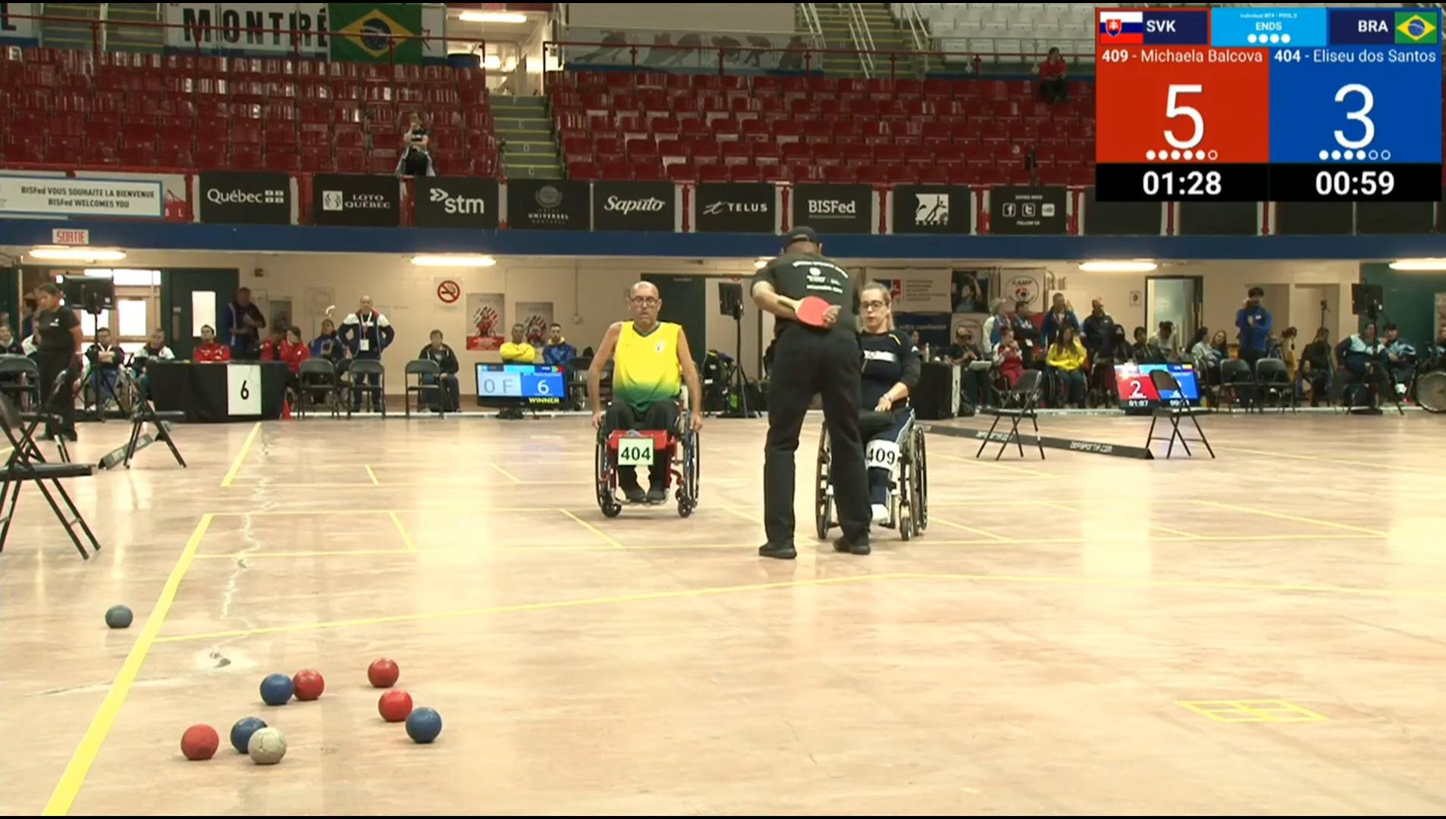blue_ball: (406, 707, 443, 744), (231, 717, 268, 752), (260, 673, 295, 705)
red_ball: (180, 725, 220, 761), (379, 688, 413, 723), (292, 670, 325, 701), (368, 657, 398, 688)
white_ball: (247, 728, 288, 765)
